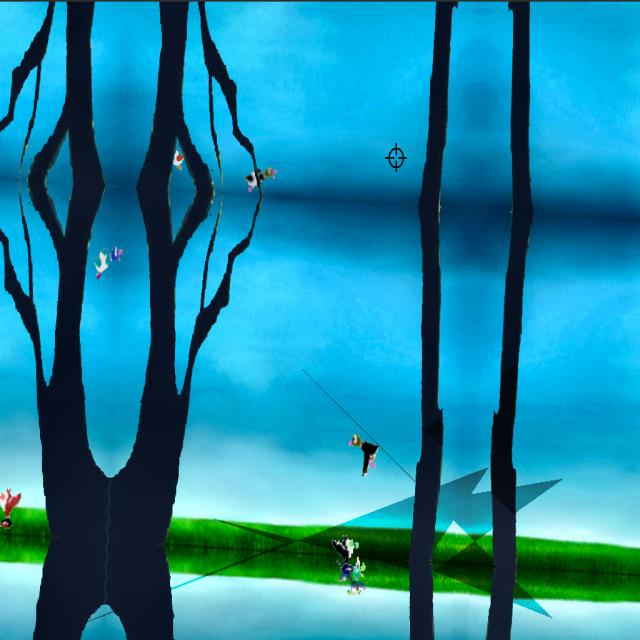duck: (88, 243, 124, 284), (353, 426, 382, 476), (240, 165, 279, 194), (171, 146, 187, 171)
falling_duck: (335, 526, 363, 567), (338, 560, 368, 598), (0, 489, 24, 536)
